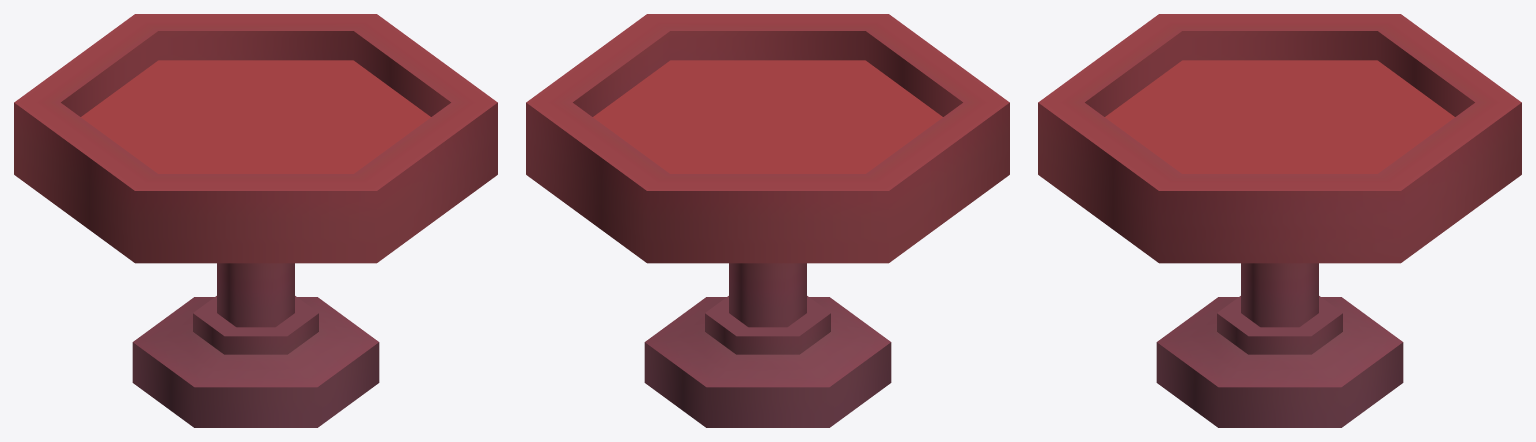
File: FoodProp_1_D.fbx
The picture shows the model from 3 angles, left to right: view 1: azimuth 30°, elevation 25°; view 2: azimuth 150°, elevation 25°; view 3: azimuth 270°, elevation 25°; orthographic projection.
Parts seen in each view (by area): view 1: FoodProp_1_D; view 2: FoodProp_1_D; view 3: FoodProp_1_D.
Boxes of the visible parts, x1,y1,x2,y2 form: FoodProp_1_D: (14, 14, 497, 427); FoodProp_1_D: (526, 14, 1009, 427); FoodProp_1_D: (1038, 14, 1521, 427).
Size of the model in its own units: 49.95 by 36.88 by 57.67.
